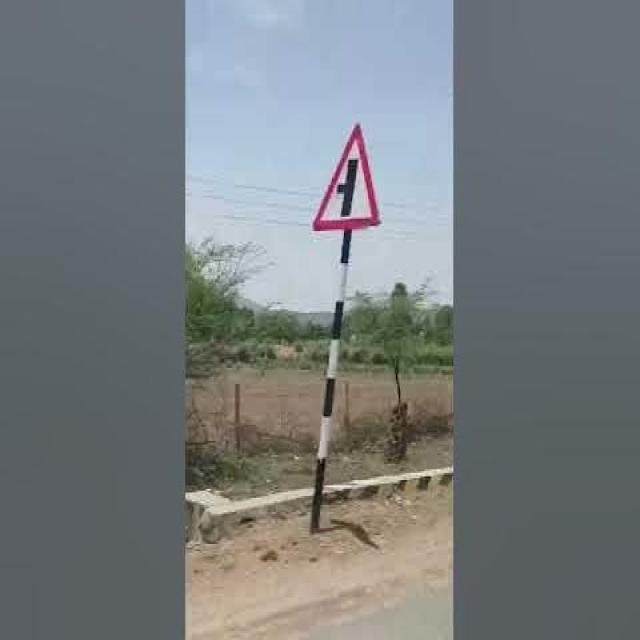side road left: (313, 124, 379, 230)
